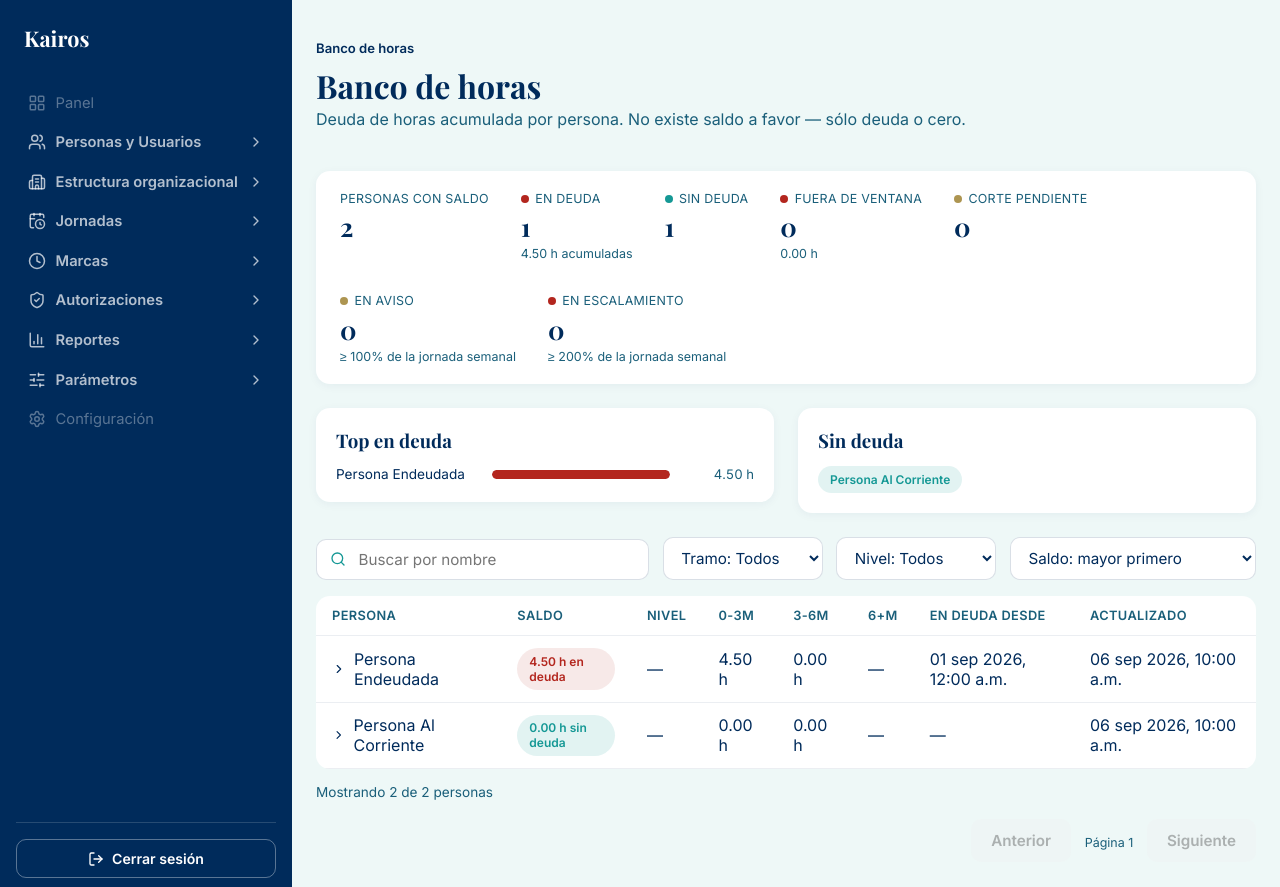
Test: BancoDeHorasPage › fila expandible pide el ledger y lo cachea (no refetch al reabrir)
The width and height of the screenshot is (1280, 887).
Click the row "Persona Endeudada" at point(786, 669), box [316,636,1256,702]
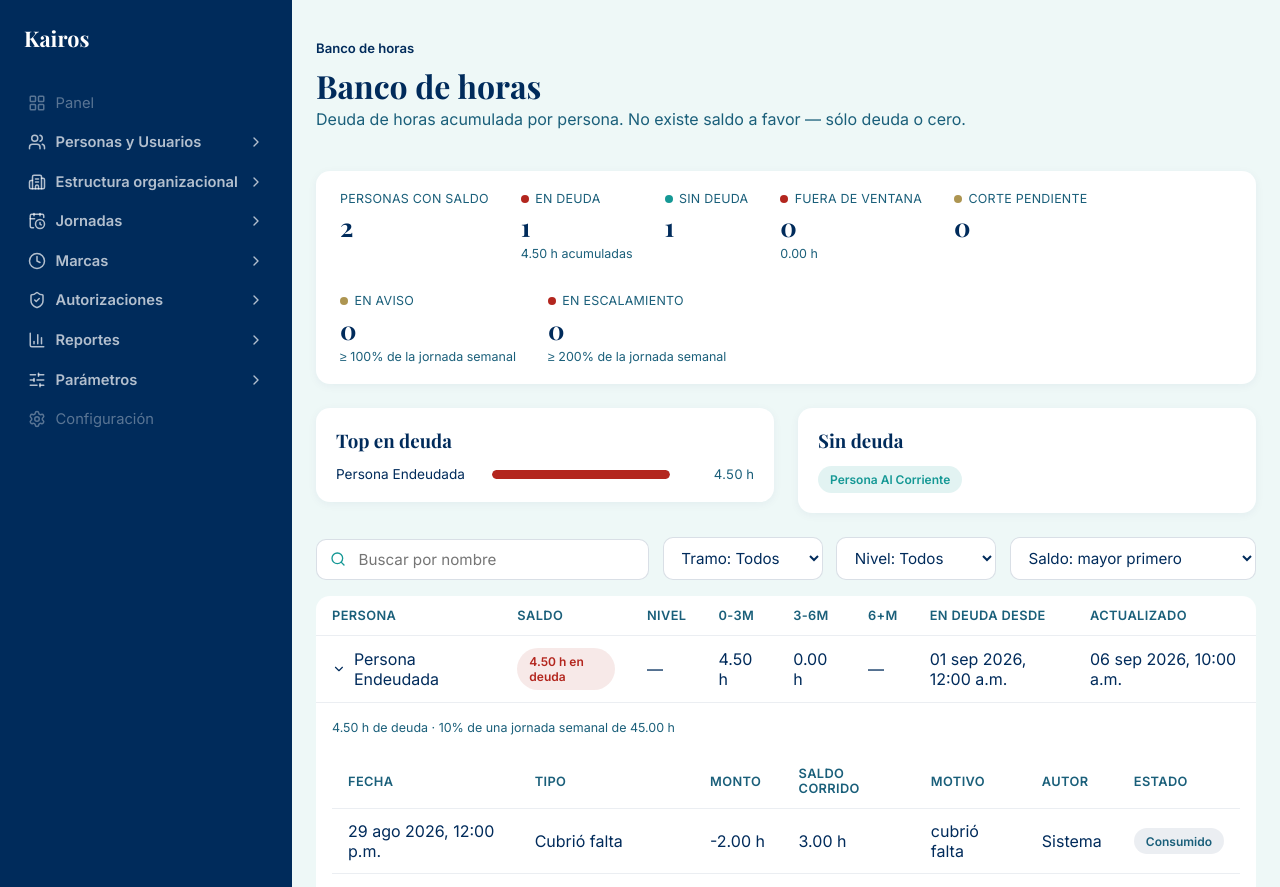
Expected: the text "cubrió falta" is shown, [915,808,1026,874]
Expected: the text "Consumido" is shown, [1134,828,1224,854]
Click the row "Persona Endeudada" at point(786, 669), box [316,636,1256,702]
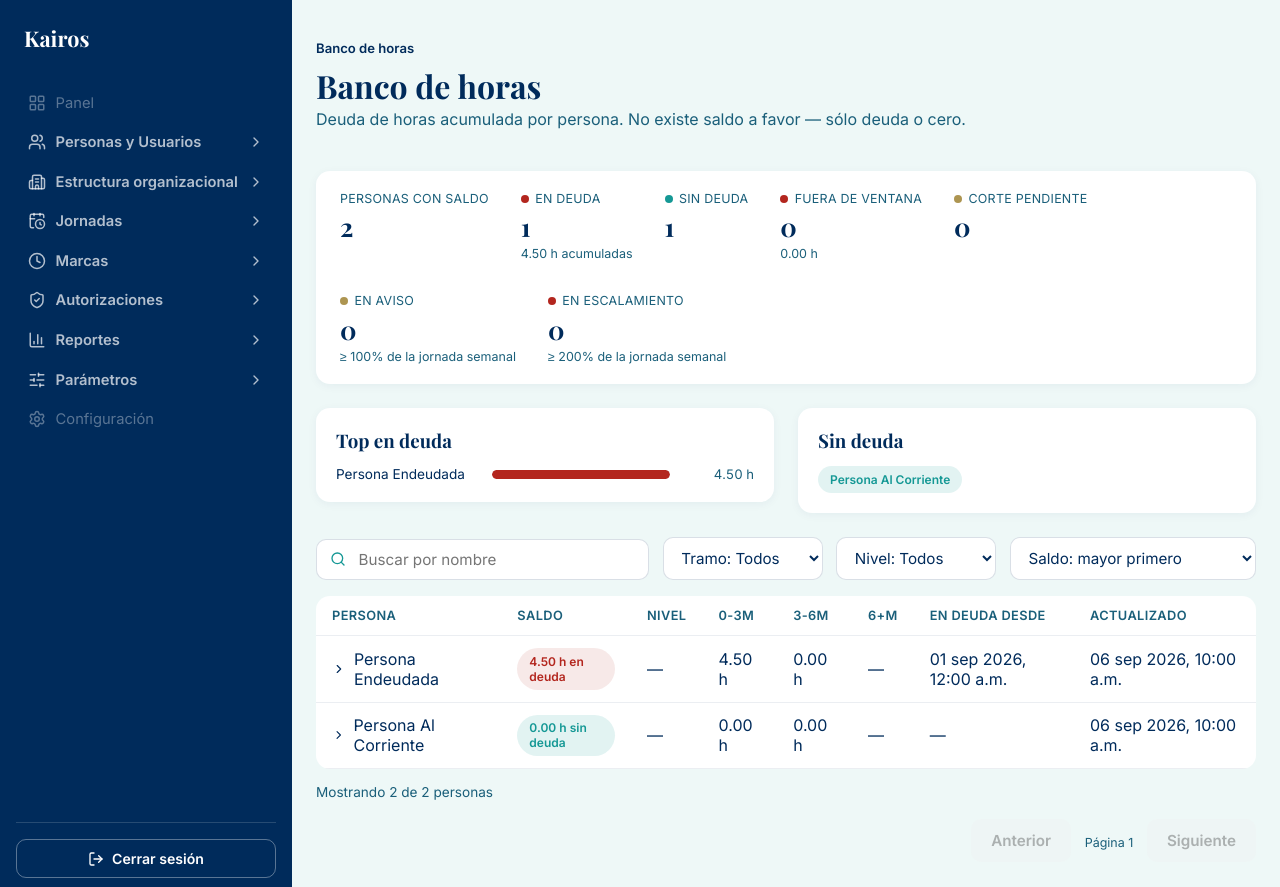
Expected: the text "Cubrió falta" is gone
// reabrir no refetchea
Click the row "Persona Endeudada" at point(786, 669), box [316,636,1256,702]
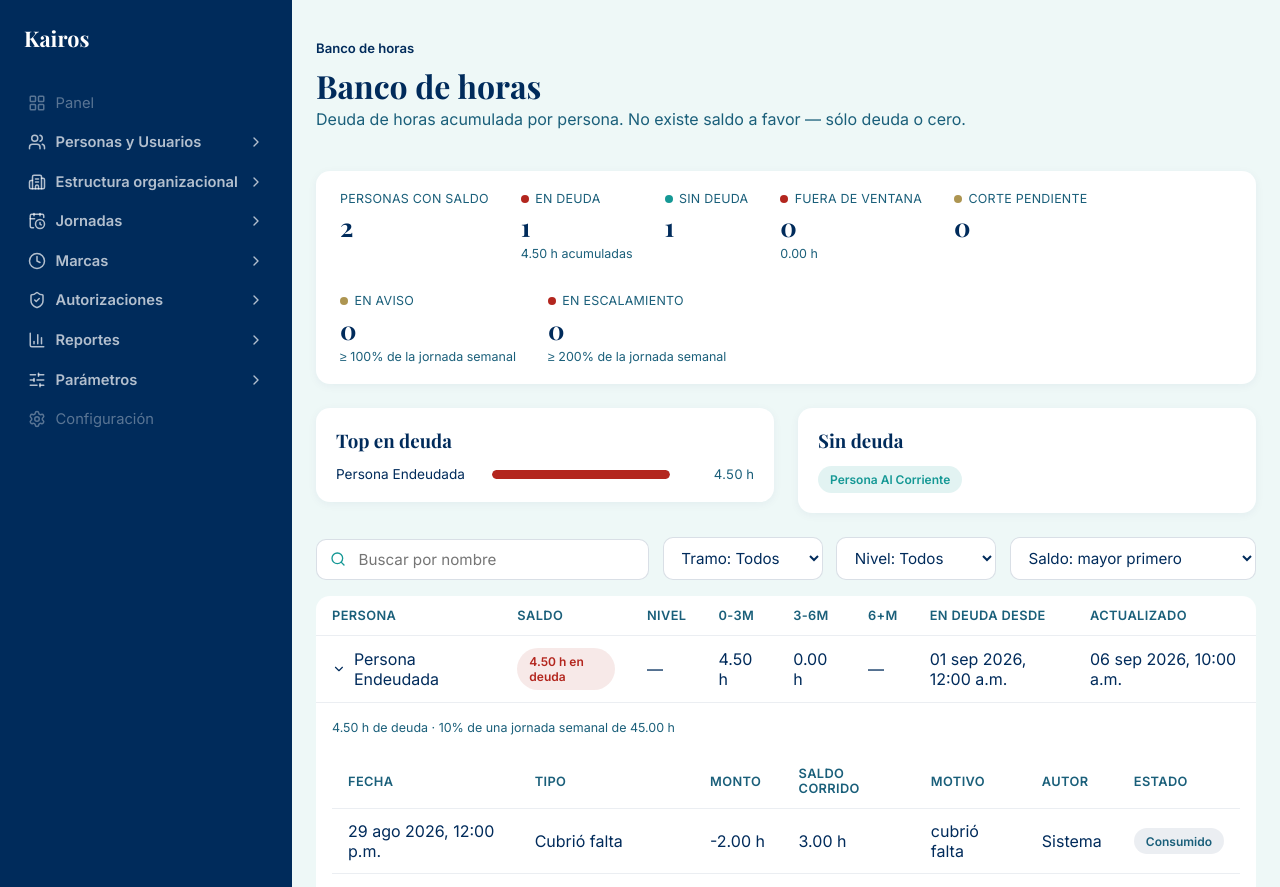
Expected: the text "cubrió falta" is shown, [915,808,1026,874]
